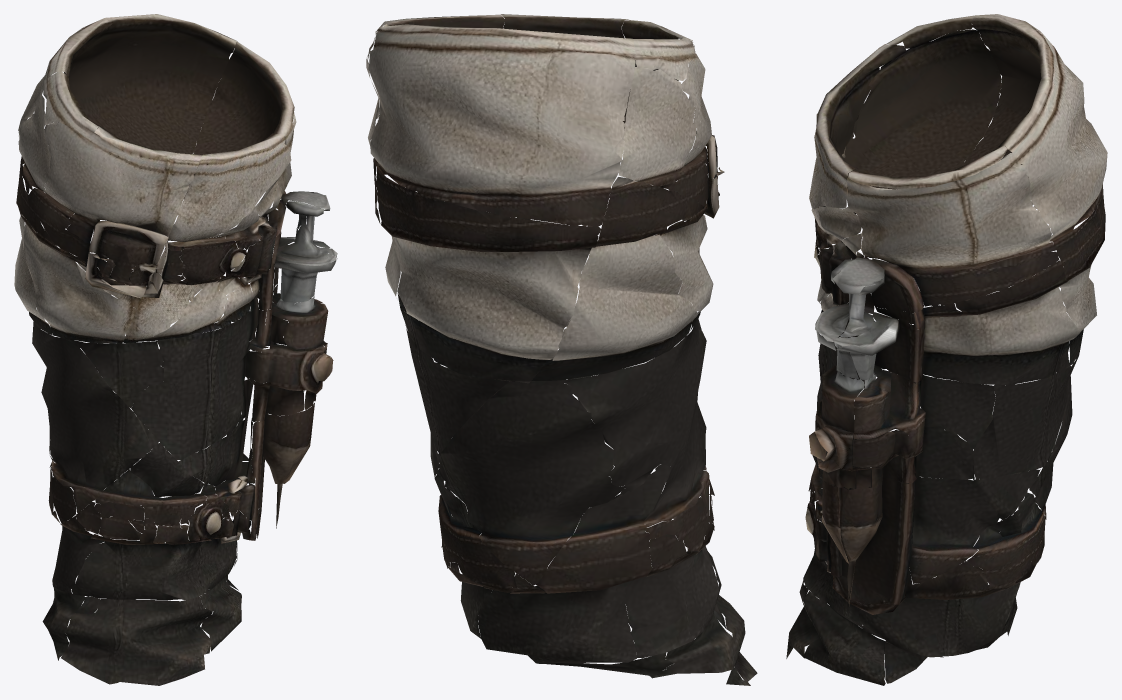
Rendered from a_ward_gloves.glb.
3 views of the same model, side by side, from view 1: azimuth 30°, elevation 25°; view 2: azimuth 150°, elevation 25°; view 3: azimuth 270°, elevation 25° (orthographic). The views are drawn at different scales.
Visible parts, largest first — view 1: tripo_node_96c35e25-aec8-42d2-b09c-9cceb882ffe5; view 2: tripo_node_96c35e25-aec8-42d2-b09c-9cceb882ffe5; view 3: tripo_node_96c35e25-aec8-42d2-b09c-9cceb882ffe5.
Part boxes in pixels (bbox=[...]): tripo_node_96c35e25-aec8-42d2-b09c-9cceb882ffe5: bbox=[14, 14, 337, 685]; tripo_node_96c35e25-aec8-42d2-b09c-9cceb882ffe5: bbox=[366, 14, 757, 685]; tripo_node_96c35e25-aec8-42d2-b09c-9cceb882ffe5: bbox=[786, 14, 1107, 685].
Bounding box in the file's own units: 0.12 × 0.2454 × 0.1123.
1 material, 1 textured.
